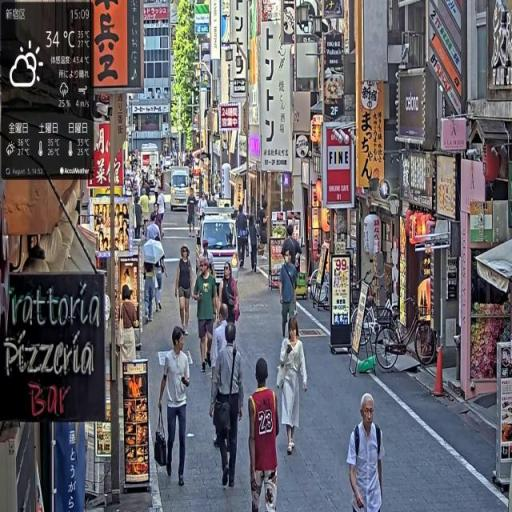person: (211, 322, 246, 491), (157, 326, 192, 490), (248, 357, 280, 512), (346, 390, 385, 512), (276, 318, 309, 459), (196, 256, 220, 375), (174, 243, 196, 333), (280, 248, 299, 349), (219, 263, 241, 330), (236, 204, 250, 273), (248, 212, 260, 276)
